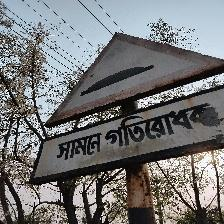Speed-breaker: (33, 32, 224, 184)
